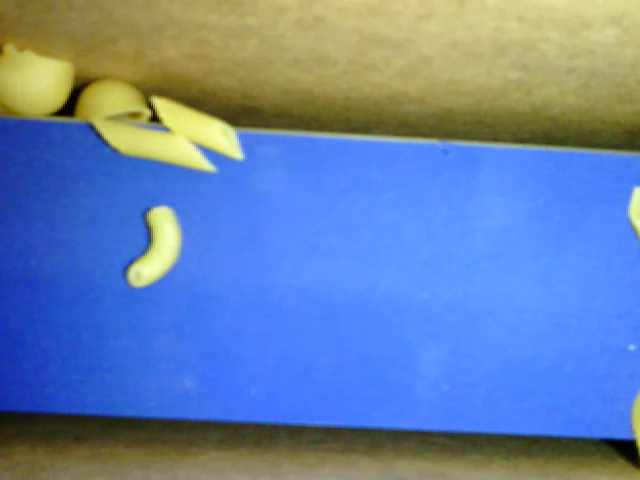elbow: (126, 205, 181, 288)
penne: (88, 119, 216, 172), (150, 95, 243, 158)
shell: (1, 44, 75, 115), (73, 80, 152, 119)
